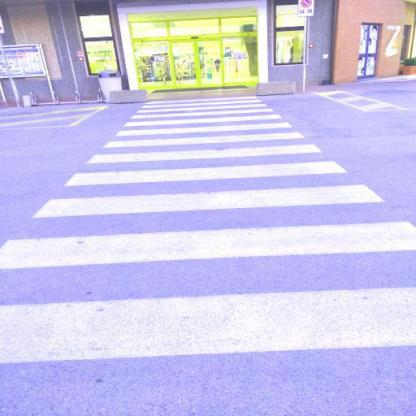crosswalk: (27, 158, 396, 222), (109, 113, 304, 138)
